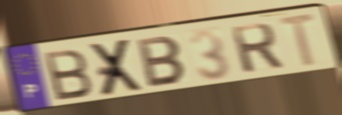3: (189, 27, 232, 82)
B: (135, 34, 189, 90), (41, 47, 94, 103)
R: (228, 21, 286, 76)
T: (277, 11, 321, 71)
X: (88, 36, 146, 99)
